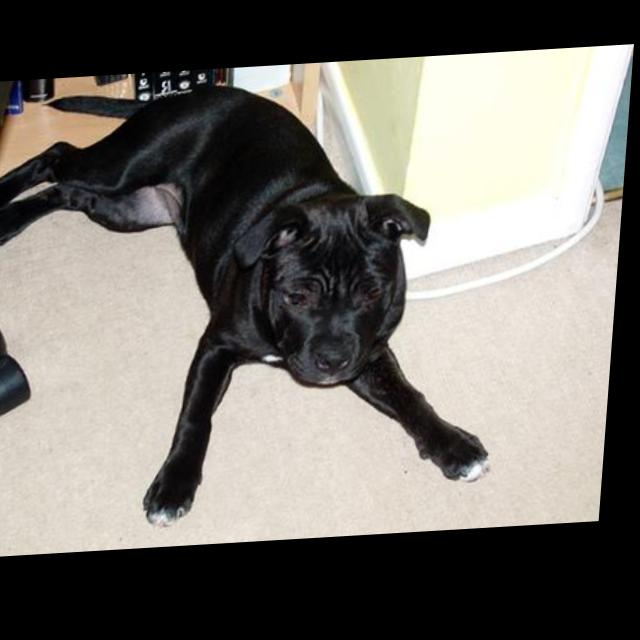staffford: (1, 70, 524, 540)
